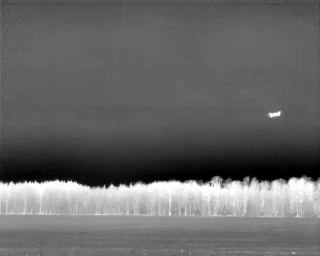DRONE: (264, 105, 286, 123)
